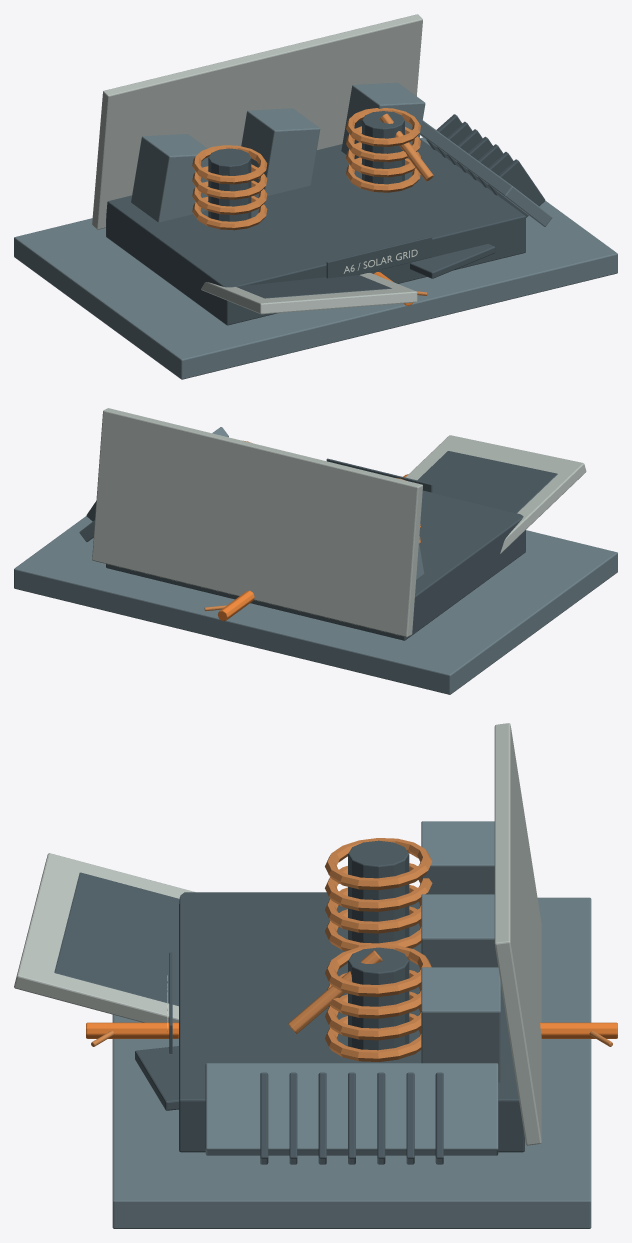
File: solar_power_station_d3.glb
3 renders of one model, top to bottom at view 1: azimuth 30°, elevation 25°; view 2: azimuth 150°, elevation 25°; view 3: azimuth 270°, elevation 25°, orthographic. The views are drawn at different scales.
Visible parts, largest first — view 1: POWER_STATION_FOUNDATION, INVERTER_CHASSIS, SURVIVING_CABINET_BACK, BATTERY_MODULE, BATTERY_MODULE_001, BUCKLED_INVERTER_DOOR, BATTERY_MODULE_002, FALLEN_COOLING_BANK, STATION_IDENTITY_PLATE, DOOR_INSET_WRECK, TRANSFORMER_CORE, TRANSFORMER_CORE_001 (+11 smaller); view 2: SURVIVING_CABINET_BACK, POWER_STATION_FOUNDATION, INVERTER_CHASSIS, DOOR_INSET_WRECK, BUCKLED_INVERTER_DOOR, POWER_CONNECTOR_CABLE_001, STATION_IDENTITY_PLATE; view 3: POWER_STATION_FOUNDATION, INVERTER_CHASSIS, FALLEN_COOLING_BANK, SURVIVING_CABINET_BACK, DOOR_INSET_WRECK, BUCKLED_INVERTER_DOOR, BATTERY_MODULE_002, BATTERY_MODULE_001, BATTERY_MODULE, TRANSFORMER_CORE, TRANSFORMER_CORE_001, EXPOSED_TRANSFORMER_WINDING_003 (+18 smaller).
Boxes of the visible parts, left/top/right/bottom form: POWER_STATION_FOUNDATION: left=14, top=137, right=617, bottom=379; INVERTER_CHASSIS: left=106, top=138, right=525, bottom=325; SURVIVING_CABINET_BACK: left=92, top=14, right=422, bottom=229; BATTERY_MODULE: left=131, top=134, right=208, bottom=222; BATTERY_MODULE_001: left=241, top=108, right=320, bottom=195; BUCKLED_INVERTER_DOOR: left=201, top=273, right=417, bottom=314; BATTERY_MODULE_002: left=341, top=82, right=425, bottom=159; FALLEN_COOLING_BANK: left=420, top=120, right=552, bottom=226; STATION_IDENTITY_PLATE: left=326, top=236, right=432, bottom=278; DOOR_INSET_WRECK: left=236, top=275, right=391, bottom=298; TRANSFORMER_CORE: left=208, top=148, right=251, bottom=221; TRANSFORMER_CORE_001: left=362, top=111, right=404, bottom=184; SURVIVING_CABINET_BACK: left=92, top=408, right=422, bottom=637; POWER_STATION_FOUNDATION: left=14, top=516, right=617, bottom=694; INVERTER_CHASSIS: left=106, top=490, right=525, bottom=640; DOOR_INSET_WRECK: left=417, top=451, right=557, bottom=513; BUCKLED_INVERTER_DOOR: left=405, top=435, right=586, bottom=553; POWER_CONNECTOR_CABLE_001: left=218, top=590, right=254, bottom=620; STATION_IDENTITY_PLATE: left=326, top=458, right=432, bottom=492; POWER_STATION_FOUNDATION: left=112, top=897, right=591, bottom=1228; INVERTER_CHASSIS: left=179, top=892, right=524, bottom=1152; FALLEN_COOLING_BANK: left=205, top=1063, right=498, bottom=1155; SURVIVING_CABINET_BACK: left=494, top=723, right=541, bottom=1145; DOOR_INSET_WRECK: left=54, top=872, right=179, bottom=1006; BUCKLED_INVERTER_DOOR: left=14, top=853, right=195, bottom=1022; BATTERY_MODULE_002: left=421, top=967, right=500, bottom=1082; BATTERY_MODULE_001: left=421, top=894, right=498, bottom=967; BATTERY_MODULE: left=421, top=821, right=494, bottom=894; TRANSFORMER_CORE: left=348, top=840, right=409, bottom=943; TRANSFORMER_CORE_001: left=348, top=947, right=409, bottom=1061; EXPOSED_TRANSFORMER_WINDING_003: left=325, top=838, right=432, bottom=890.
Size of the model in its own units: 5.4 by 2.04 by 4.54.
